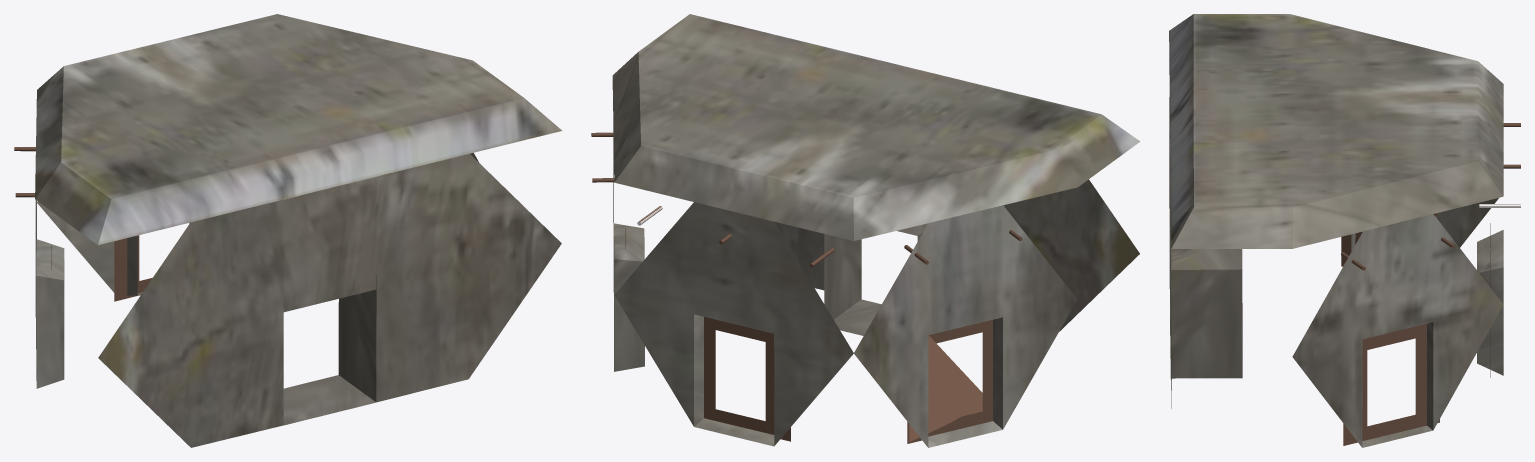
File: bw-bunker.lod1.glb
The picture shows the model from 3 angles, left to right: view 1: azimuth 30°, elevation 25°; view 2: azimuth 150°, elevation 25°; view 3: azimuth 270°, elevation 25°; orthographic projection. The views are drawn at different scales.
Parts seen in each view (by area): view 1: Cube.001_0, pin1_0; view 2: Cube.001_0, pin1_0, Cylinder.016_0; view 3: Cube.001_0, pin1_0.
Boxes of the visible parts, x1,y1,x2,y2 form: Cube.001_0: [35, 14, 562, 447]; pin1_0: [14, 147, 189, 301]; Cube.001_0: [612, 14, 1140, 447]; pin1_0: [591, 132, 1022, 443]; Cylinder.016_0: [637, 206, 982, 442]; Cube.001_0: [1169, 14, 1503, 447]; pin1_0: [1341, 123, 1520, 445].
Size of the model in its own units: 9 by 4.73 by 6.13.
Materials: 3 (2 with a texture image).
